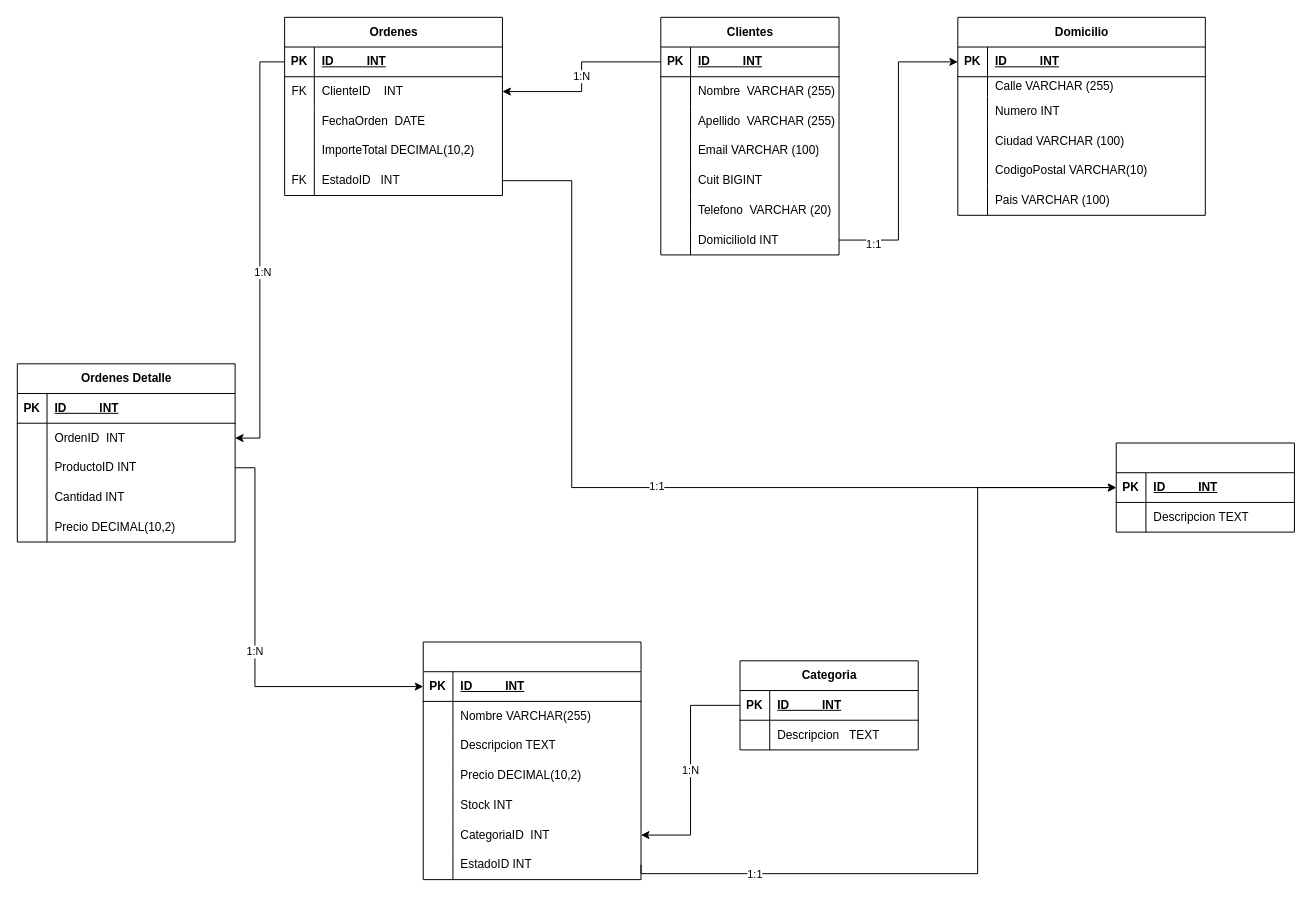
Some shapes in this 1312 by 899 pixel diagram are drawn without their labels. Each missing label, with the box of its shape:
Estados: (1115, 442, 1294, 532)
Producto: (422, 641, 641, 880)
